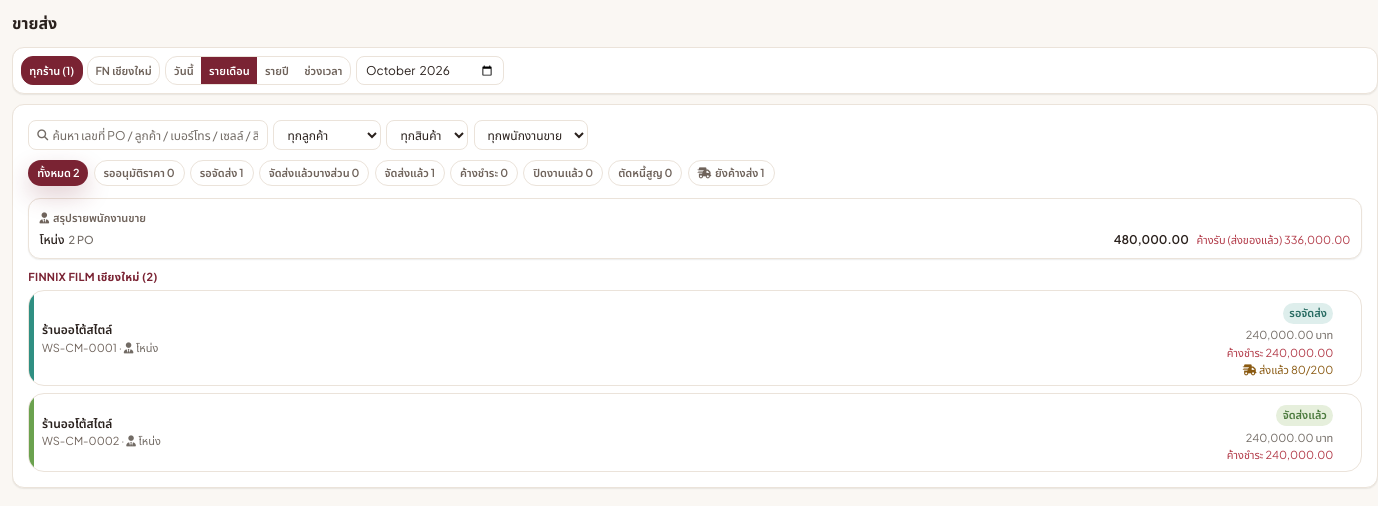
Scenario: WholesaleList — ความคืบหน้าการส่งของ › กรอง "ยังค้างส่ง" ได้ ซึ่งห้าสถานะเดิมตอบไม่ได้
Click the button "ยังค้างส่ง 1": (731, 173) [688, 160, 774, 186]
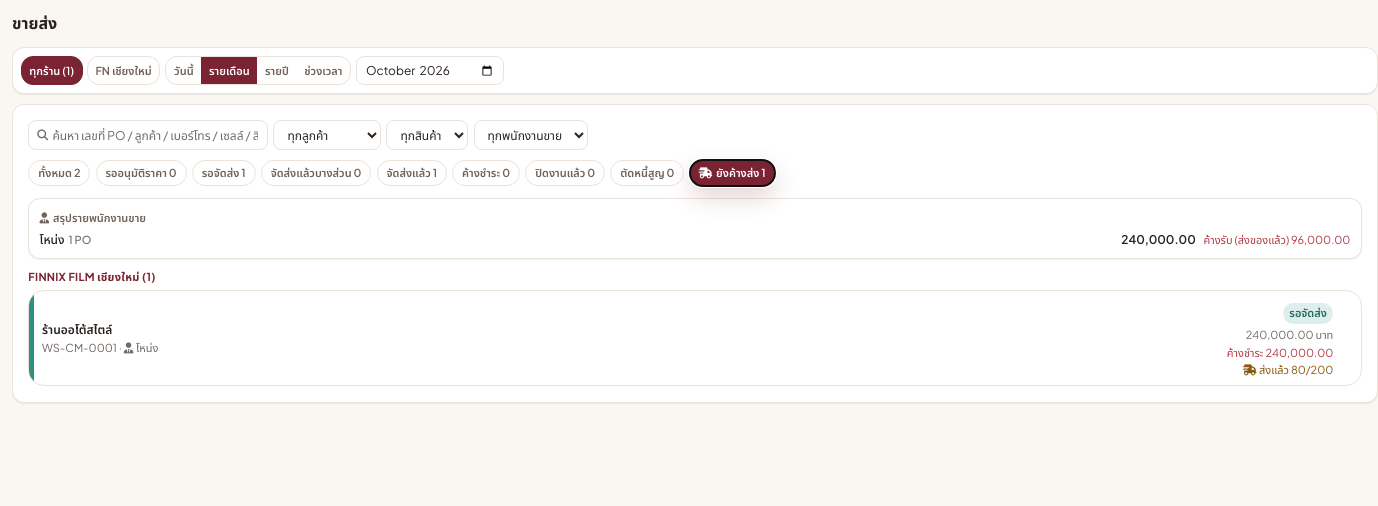
Expected: the text "WS-CM-0001 · โหน่ง" is shown, [42, 340, 158, 356]
Now the text "WS-CM-0002" is gone
